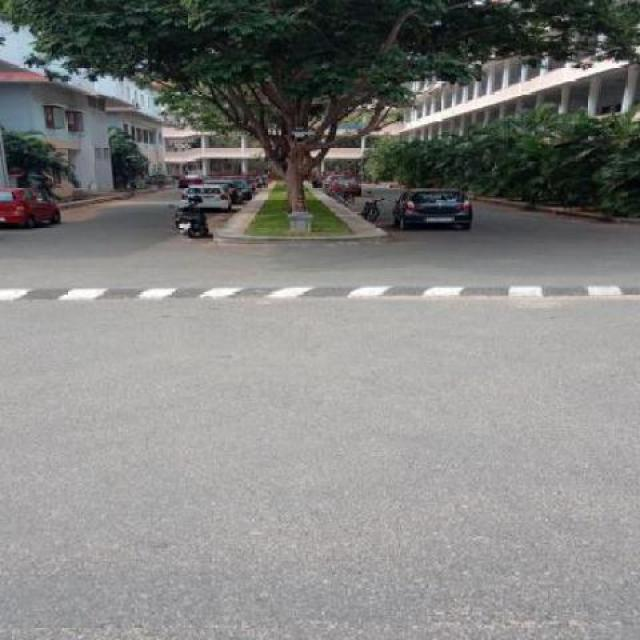Speed Bump: (0, 284, 639, 304)
